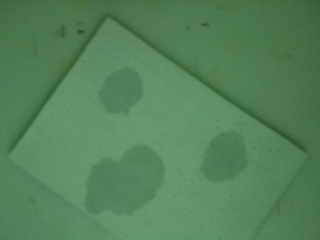Water_detected: (104, 153, 163, 210), (106, 77, 138, 109), (206, 147, 236, 170)
